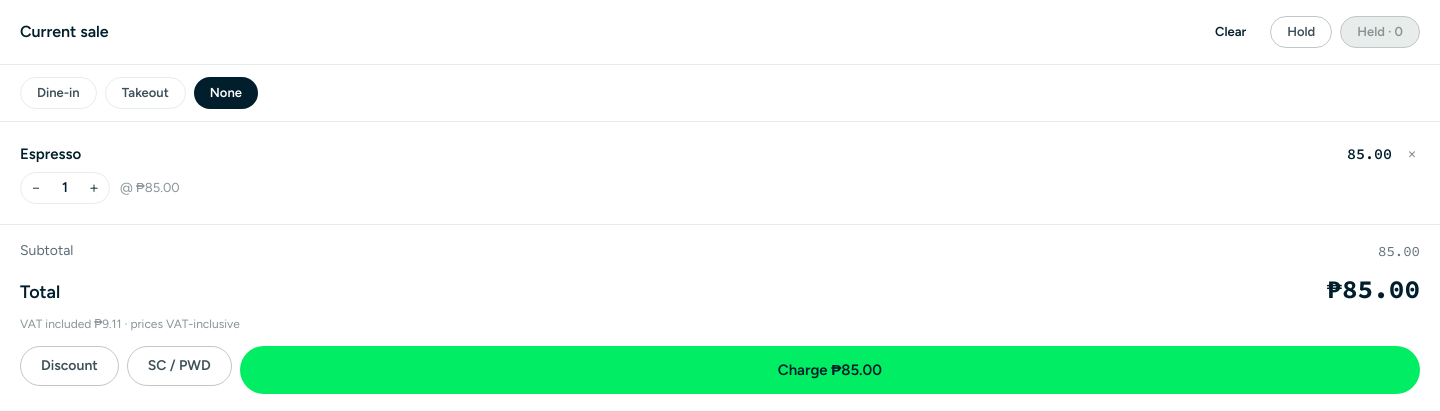
Test: the stepper drives the line total and the footer
Expected: the button "Charge ₱85.00" is enabled, [240, 346, 1420, 394]
Click the button named "Increase quantity". click: [94, 188]
box: [79, 173, 109, 203]
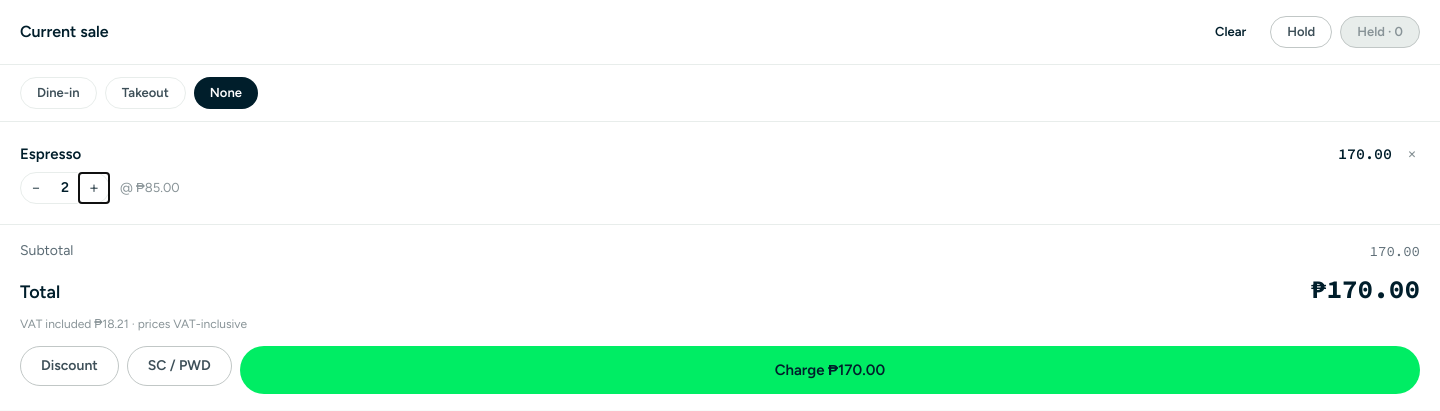
Result: the button "Charge ₱170.00" is shown at [240, 346, 1420, 394]
Click the button named "Decrease quantity". click: [36, 188]
box: [21, 173, 51, 203]
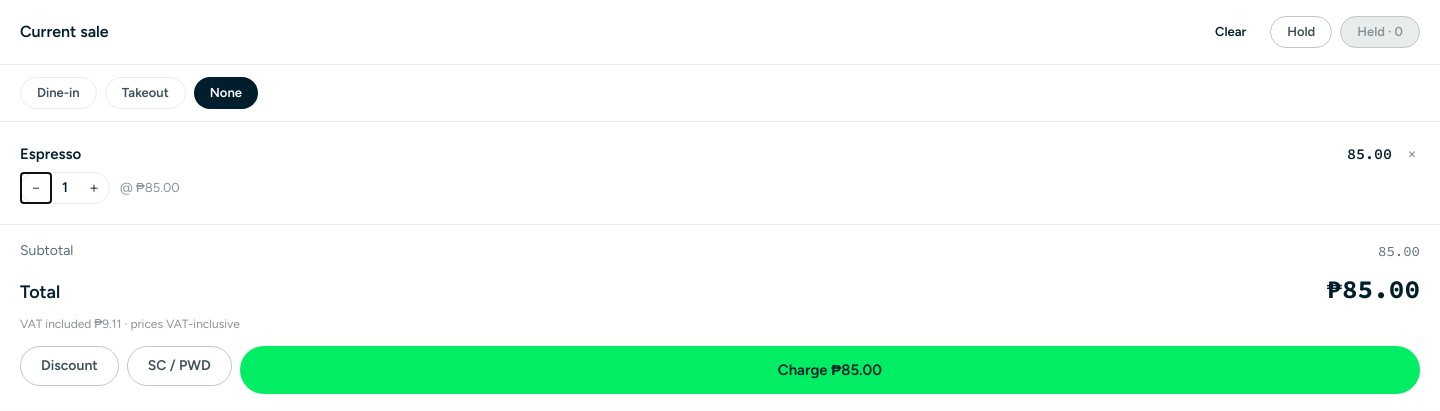
Result: the button "Charge ₱85.00" is shown at [240, 346, 1420, 394]
